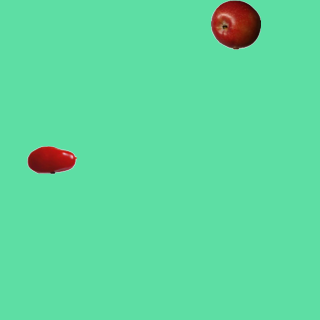Apple Braeburn: (210, 0, 260, 49)
Tomato 2: (26, 134, 76, 184)
